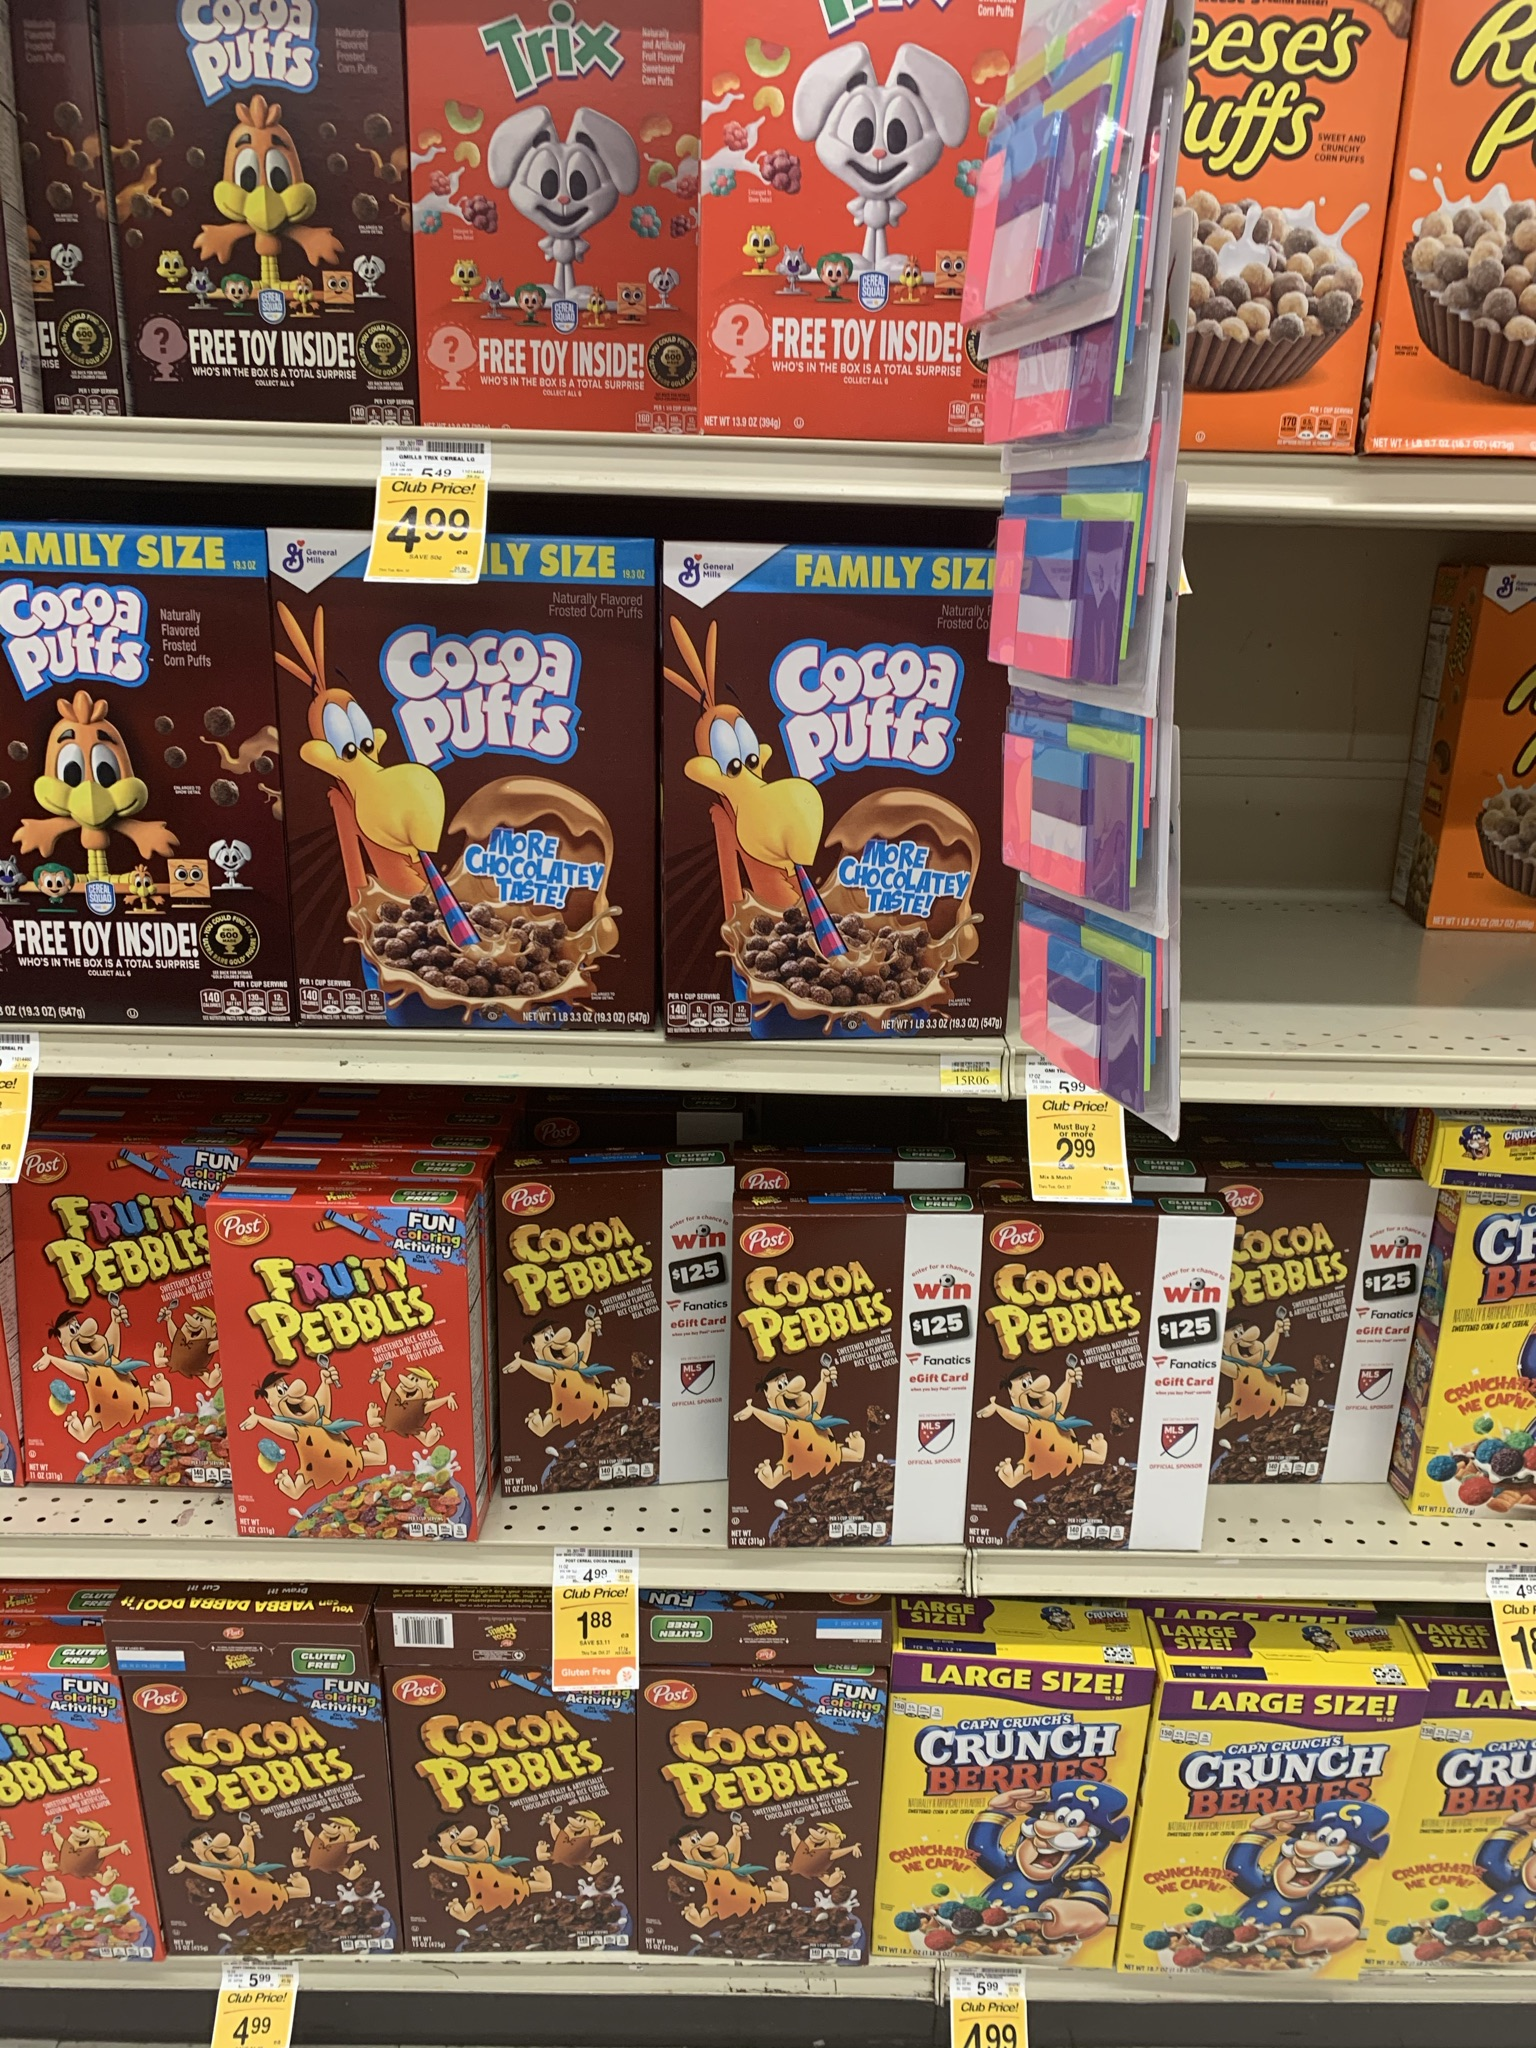cereal: (269, 535, 639, 1026), (653, 535, 999, 1032), (5, 532, 278, 1035), (1120, 8, 1418, 456), (86, 10, 402, 427), (402, 8, 694, 427), (705, 19, 992, 440), (119, 1646, 387, 1979), (216, 1208, 471, 1542), (10, 1151, 244, 1492), (883, 1666, 1121, 1998), (742, 1221, 971, 1551), (991, 1219, 1210, 1553), (402, 1658, 623, 1985), (632, 1672, 865, 1979), (1139, 1679, 1365, 1993), (495, 1185, 728, 1474), (1217, 1187, 1405, 1484), (1391, 1674, 1536, 1975), (2, 1671, 127, 1971), (1442, 1184, 1536, 1522)
